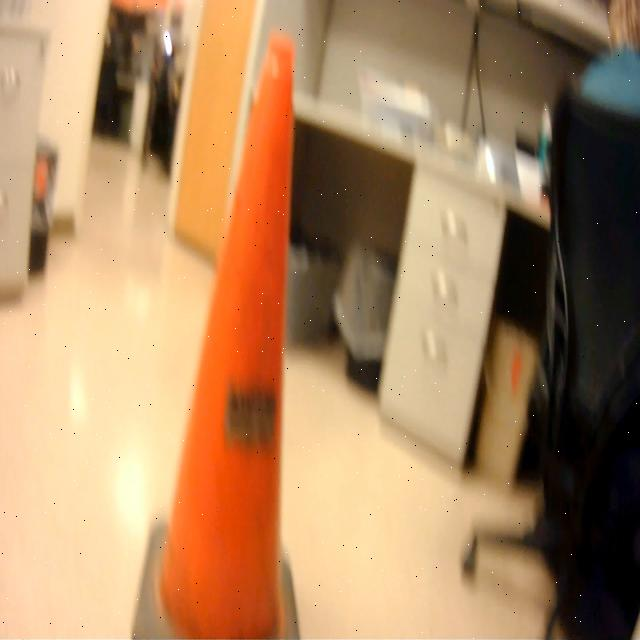traffic cone: (126, 26, 317, 640)
